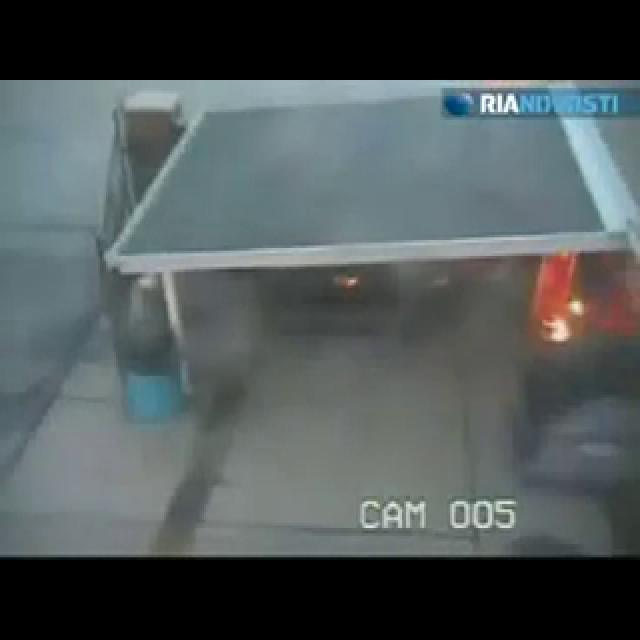explosion: (1, 71, 640, 441)
